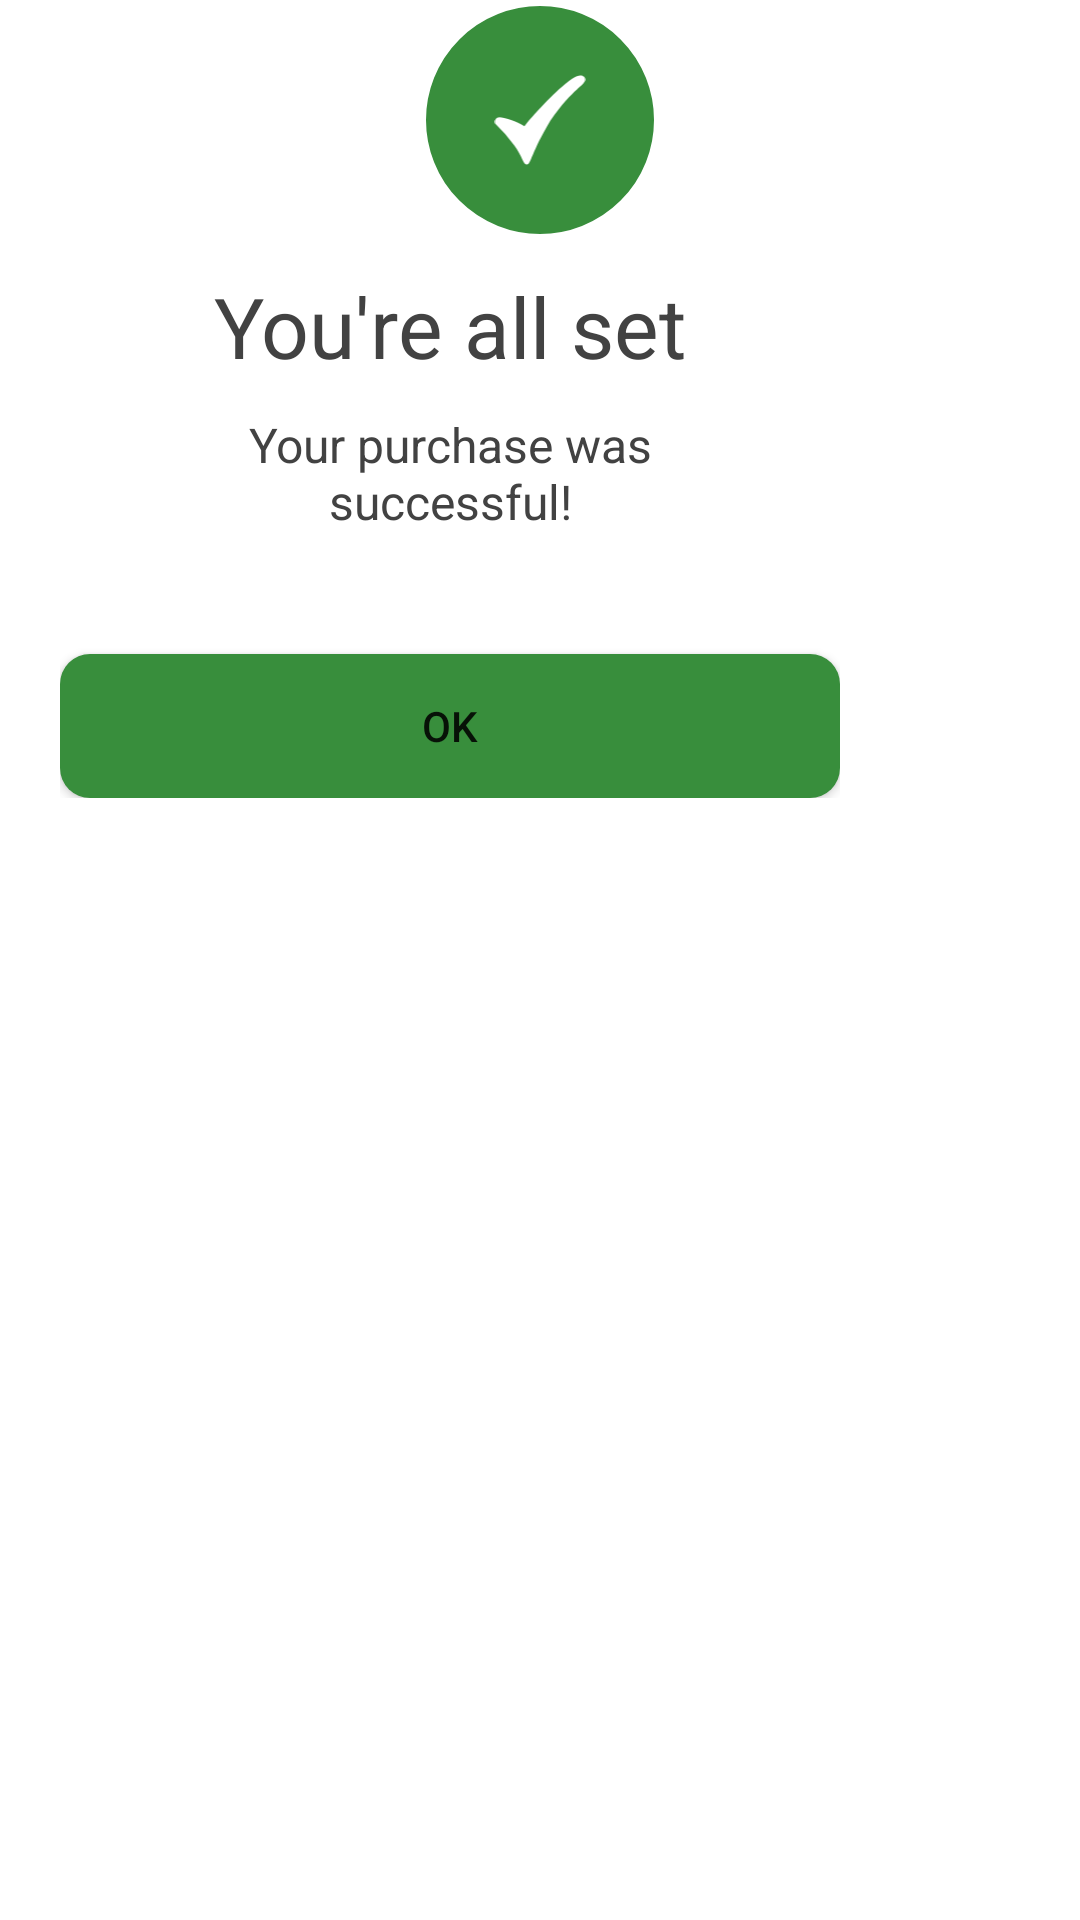

Screen size 1080px×1920px. Icon name, then its box in pixels as (x1, y1, x2, y2):
check mark: (494, 75, 586, 165)
